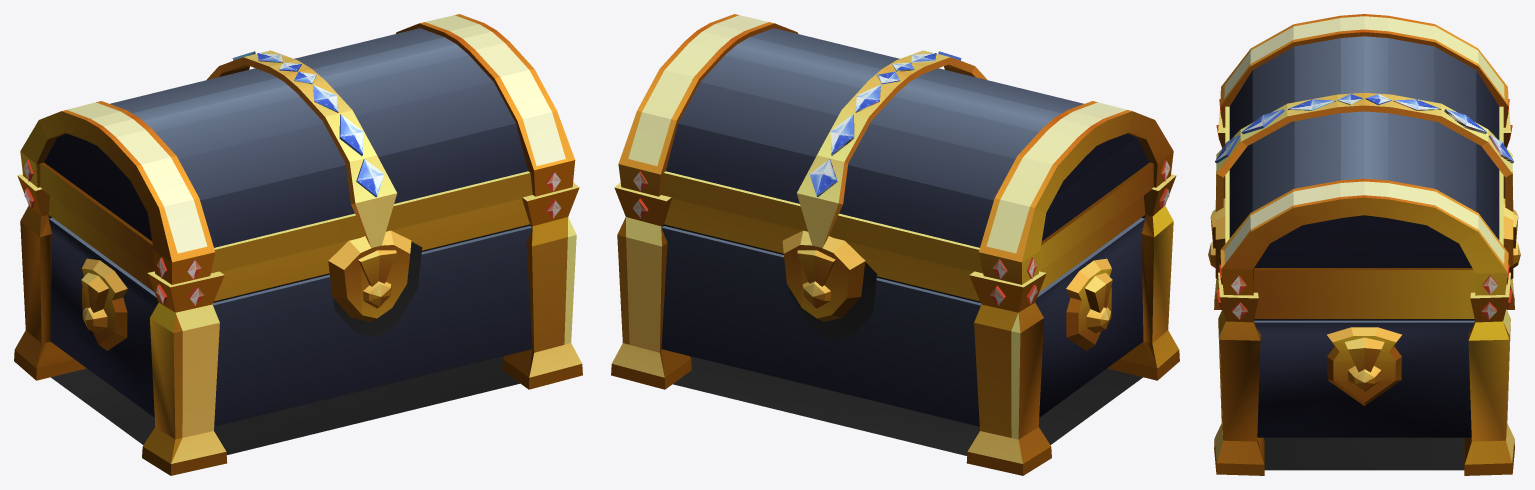
File: Chest.fbx
3 views of the same model, side by side, from view 1: azimuth 30°, elevation 25°; view 2: azimuth 150°, elevation 25°; view 3: azimuth 270°, elevation 25° (orthographic). The views are drawn at different scales.
Visible parts, largest first — view 1: Chest; view 2: Chest; view 3: Chest.
Part boxes in pixels (left/top/right/bottom): Chest: left=14, top=14, right=582, bottom=475; Chest: left=611, top=14, right=1179, bottom=475; Chest: left=1208, top=14, right=1520, bottom=475.
Bounding box in the file's own units: 1395 × 937 × 940.
